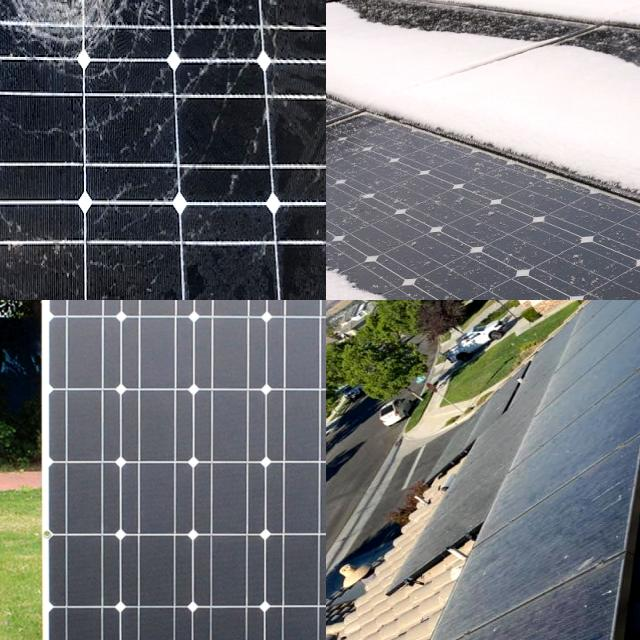crack: (51, 300, 326, 640)
dust: (544, 300, 640, 440), (494, 452, 606, 570), (408, 577, 609, 640), (438, 404, 522, 532)
hotspot: (0, 0, 144, 112)
panel: (505, 102, 636, 224), (326, 138, 421, 300), (364, 66, 492, 174), (574, 0, 640, 100), (326, 171, 376, 300), (460, 0, 555, 61), (326, 39, 390, 119), (327, 0, 443, 43), (353, 275, 475, 300), (326, 115, 358, 195), (504, 0, 582, 29), (326, 0, 356, 73), (326, 0, 380, 35), (587, 0, 631, 24), (374, 0, 426, 15), (326, 0, 357, 23), (326, 0, 349, 31), (326, 0, 377, 13), (452, 0, 506, 11)
